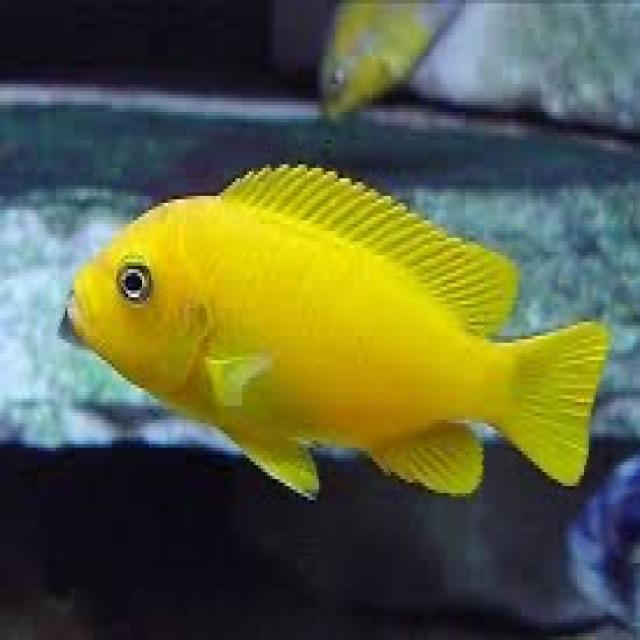YellowCichlid: (63, 162, 616, 498)
